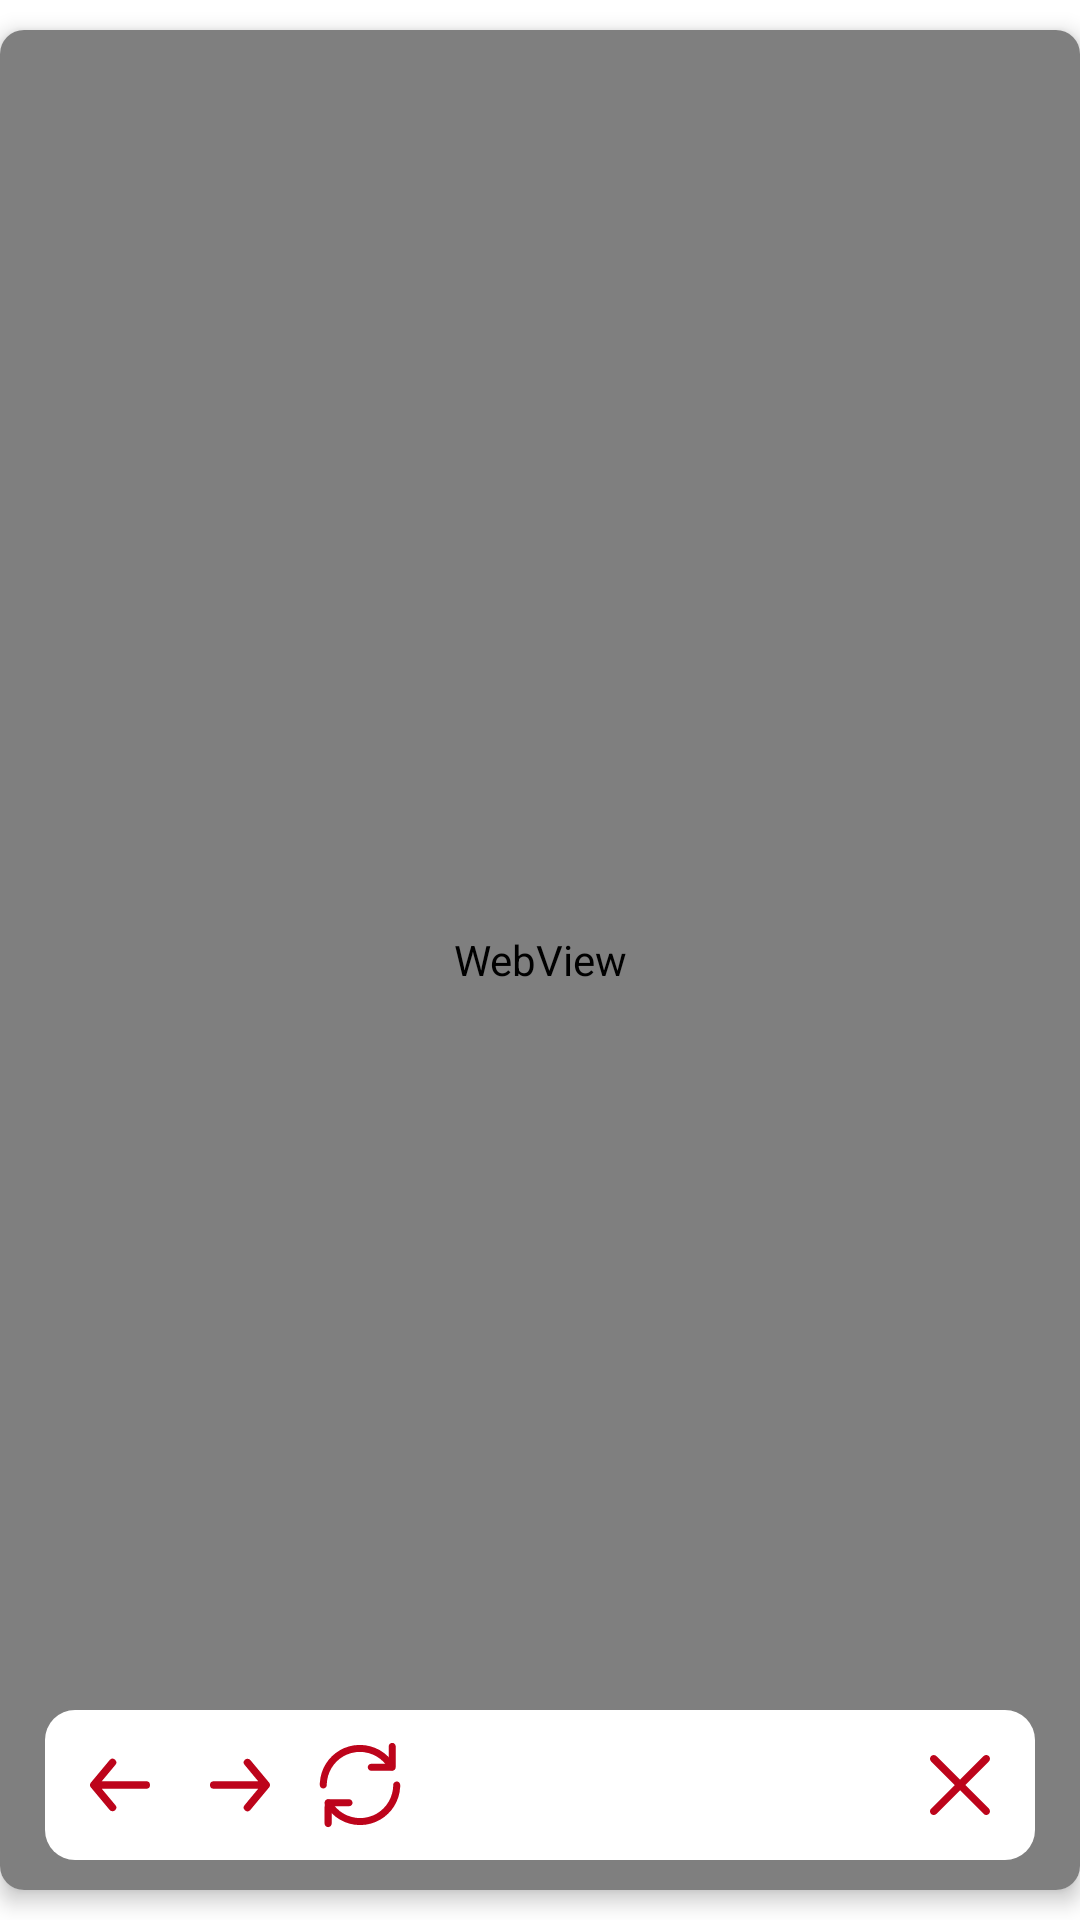

Named icons in this screenshot (1080*1920) and their centers, point (x, y):
back: point (120, 1785)
close: point (960, 1785)
forward: point (240, 1785)
refresh: point (360, 1785)
